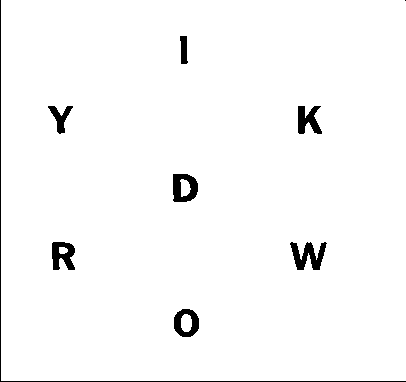I: (174, 31, 194, 71)
